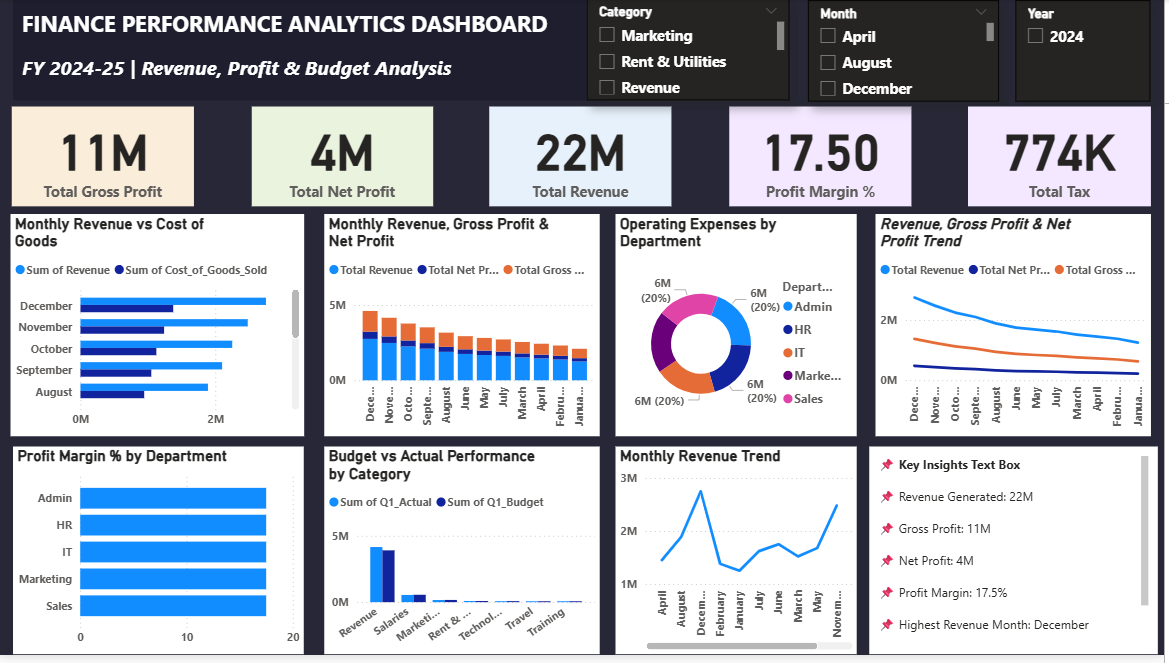

The page's visual inventory and layout, read from the dashboard file:
{"tool":"powerbi","page":{"name":"Page 1","canvas":[1280,720],"ordinal":0},"visuals":[{"type":"card","fields":{"Values":["finance_budget_vs_actual.Total Gross Profit"]},"box":[15.4,117.8,200.3,109.8],"z":0},{"type":"card","fields":{"Values":["finance_budget_vs_actual.Profit Margin %"]},"box":[802.1,118.2,200.3,109.8],"z":1000},{"type":"card","fields":{"Values":["finance_budget_vs_actual.Total Revenue"]},"box":[539.4,118,200.3,109.8],"z":2000},{"type":"card","fields":{"Values":["finance_budget_vs_actual.Total Net Profit"]},"box":[278,117.9,199,109.8],"z":3000},{"type":"columnChart","title":"Monthly Revenue, Gross Profit & Net Profit","fields":{"Category":["finance_pl.Month"],"Y":["finance_budget_vs_actual.Total Revenue","finance_budget_vs_actual.Total Net Profit","finance_budget_vs_actual.Total Gross Profit"]},"box":[357.8,236.6,302.2,243.7],"z":4000},{"type":"clusteredBarChart","title":"Monthly Revenue vs Cost of Goods","fields":{"Category":["finance_pl.Month"],"Y":["Sum(finance_pl.Revenue)","Sum(finance_pl.Cost_of_Goods_Sold)"]},"box":[14.3,236.6,322.1,243.7],"z":5000},{"type":"lineChart","title":"Revenue, Gross Profit & Net Profit Trend","fields":{"Category":["finance_pl.Month"],"Y":["finance_budget_vs_actual.Total Revenue","finance_budget_vs_actual.Total Net Profit","finance_budget_vs_actual.Total Gross Profit"]},"box":[963.6,236.6,302.2,243.7],"z":6000},{"type":"textbox","box":[956.4,491.8,316.4,228.1],"z":7000},{"type":"slicer","fields":{"Values":["finance_cashflow.Year"]},"box":[1117.5,1.4,148.2,111.2],"z":8000},{"type":"slicer","fields":{"Values":["finance_cashflow.Month"]},"box":[889.2,1.4,209.9,111.1],"z":9000},{"type":"slicer","fields":{"Values":["finance_budget_vs_actual.Category"]},"box":[645.7,0,222.4,111.2],"z":10000},{"type":"lineChart","title":"Monthly Revenue Trend","fields":{"Category":["finance_pl.Month"],"Y":["Sum(finance_pl.Revenue)"]},"box":[678.5,491.8,265.1,228.1],"z":11000},{"type":"clusteredColumnChart","title":"Budget vs Actual Performance by Category","fields":{"Category":["finance_budget_vs_actual.Category"],"Y":["Sum(finance_budget_vs_actual.Q1_Actual)","Sum(finance_budget_vs_actual.Q1_Budget)"]},"box":[357.8,491.8,302.2,228.1],"z":12000},{"type":"clusteredBarChart","fields":{"Category":["finance_expenses.Department"],"Y":["finance_budget_vs_actual.Profit Margin %"]},"box":[17.1,491.8,319.3,228.1],"z":13000},{"type":"donutChart","title":"Operating Expenses by Department","fields":{"Category":["finance_expenses.Department"],"Y":["Sum(finance_pl.Operating_Expenses)"]},"box":[678.5,236.6,265.1,243.7],"z":14000},{"type":"textbox","box":[16.5,0,629.8,111.1],"z":15000},{"type":"card","fields":{"Values":["Sum(finance_pl.Tax)"]},"box":[1064.8,118.3,201,109.8],"z":15001}]}

Visuals, with their boxes in screenshot pixels (x1, y1, x2, y2), scaled from the page's 1280x720 canvas onto the 1169x663 screenshot:
card - finance_budget_vs_actual.Total Gross Profit: bbox=(14, 108, 197, 210)
card - finance_budget_vs_actual.Profit Margin %: bbox=(733, 109, 915, 210)
card - finance_budget_vs_actual.Total Revenue: bbox=(493, 109, 676, 210)
card - finance_budget_vs_actual.Total Net Profit: bbox=(254, 109, 436, 210)
"Monthly Revenue, Gross Profit & Net Profit" columnChart: bbox=(327, 218, 603, 442)
"Monthly Revenue vs Cost of Goods" clusteredBarChart: bbox=(13, 218, 307, 442)
"Revenue, Gross Profit & Net Profit Trend" lineChart: bbox=(880, 218, 1156, 442)
textbox: bbox=(873, 453, 1162, 662)
slicer - finance_cashflow.Year: bbox=(1021, 1, 1156, 104)
slicer - finance_cashflow.Month: bbox=(812, 1, 1004, 104)
slicer - finance_budget_vs_actual.Category: bbox=(590, 0, 793, 102)
"Monthly Revenue Trend" lineChart: bbox=(620, 453, 862, 662)
"Budget vs Actual Performance by Category" clusteredColumnChart: bbox=(327, 453, 603, 662)
clusteredBarChart - finance_expenses.Department x finance_budget_vs_actual.Profit Margin %: bbox=(16, 453, 307, 662)
"Operating Expenses by Department" donutChart: bbox=(620, 218, 862, 442)
textbox: bbox=(15, 0, 590, 102)
card - Sum(finance_pl.Tax): bbox=(972, 109, 1156, 210)
